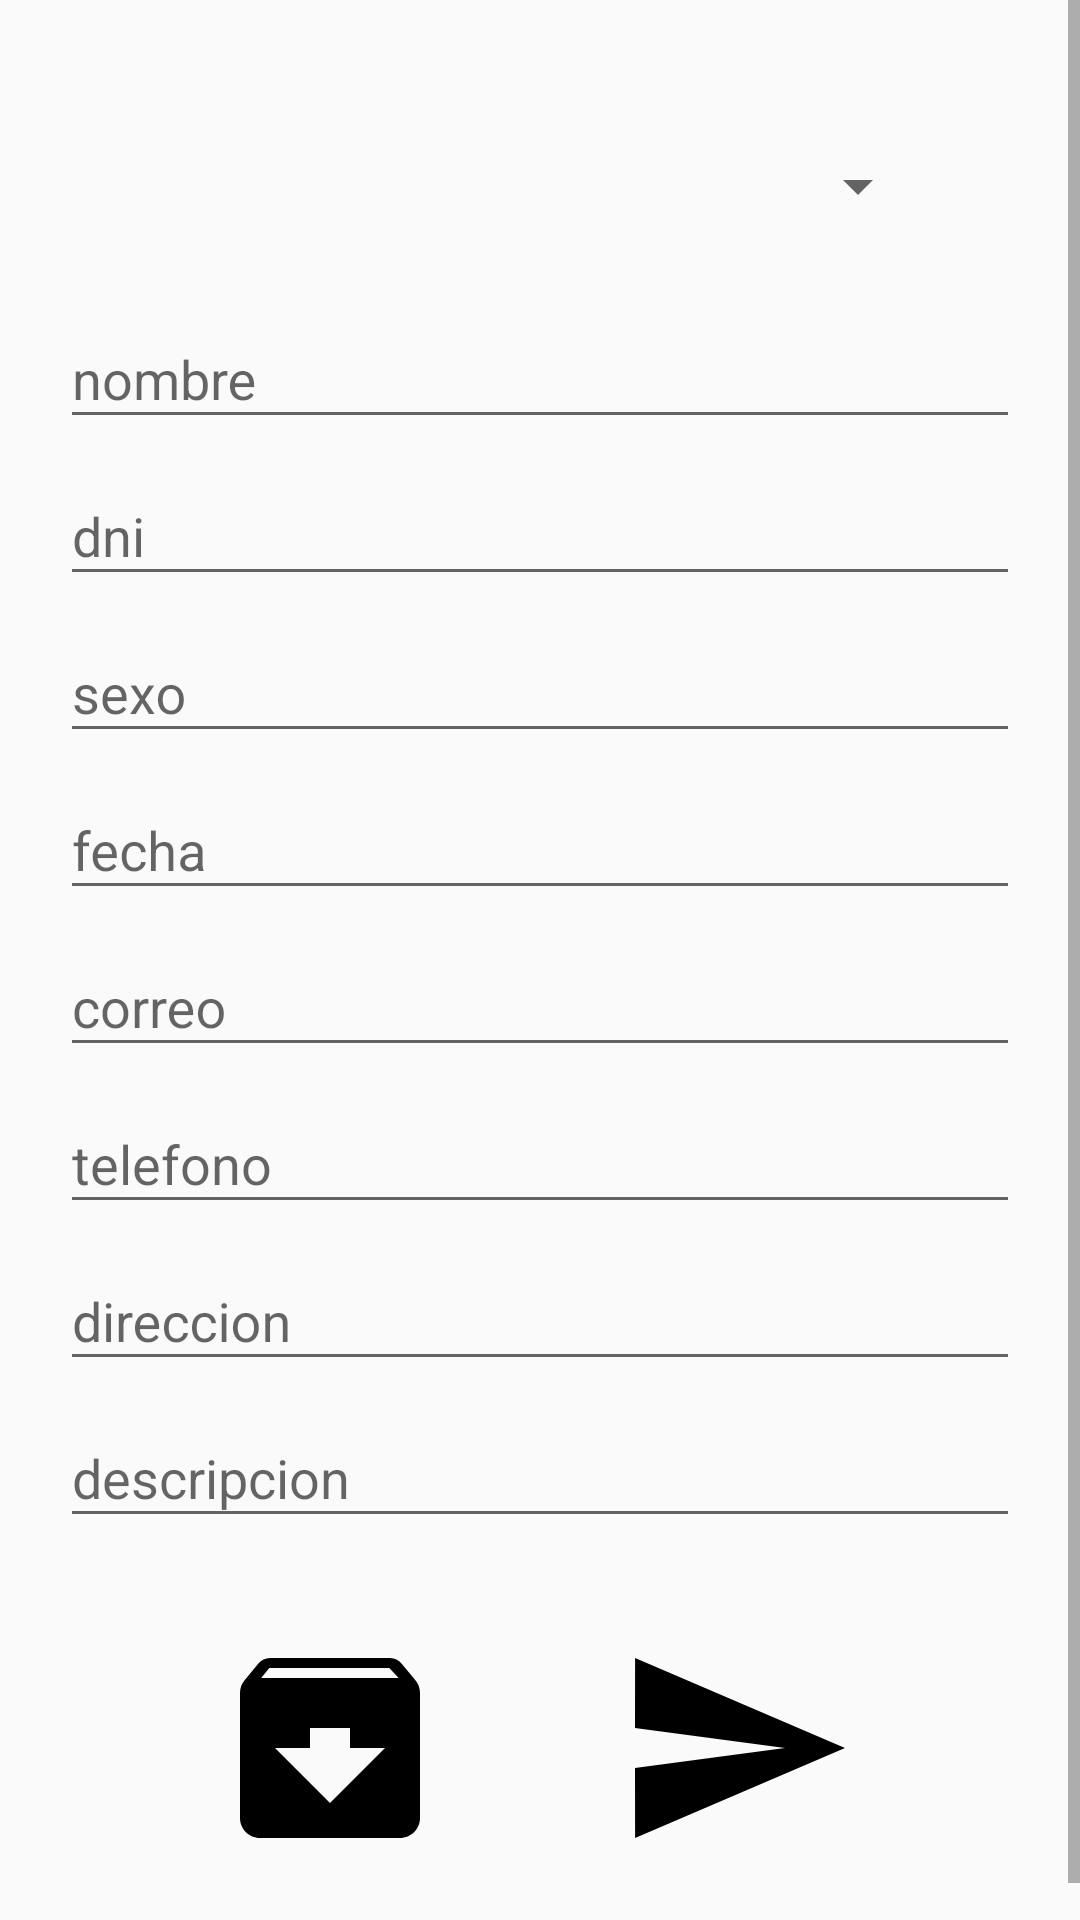

Icon click points for this 1080px x 1920px phone screenshot, format (x=x, y=y):
enviar: (x=740, y=1748)
guardar: (x=330, y=1748)
